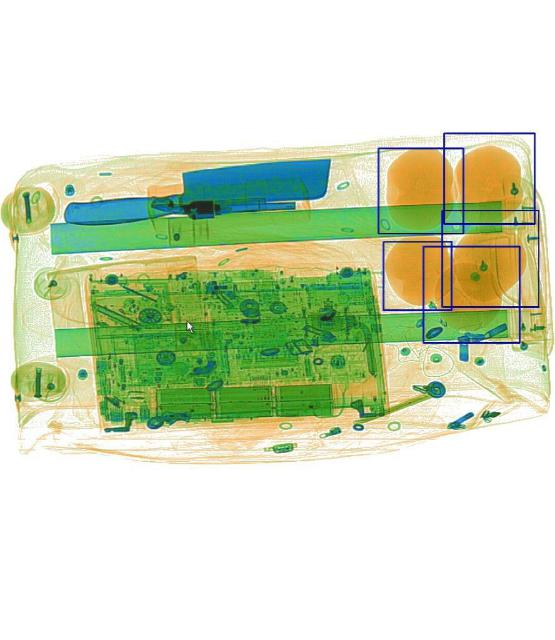Gun: (150, 184, 291, 220)
Knife: (60, 156, 331, 226)
